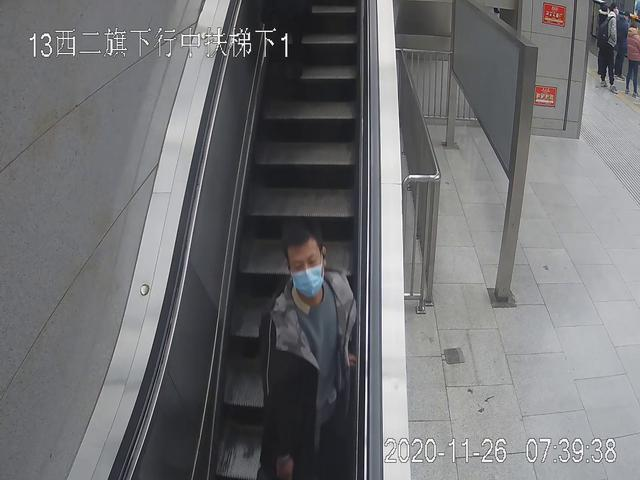person: (260, 230, 359, 480), (597, 5, 624, 93)
